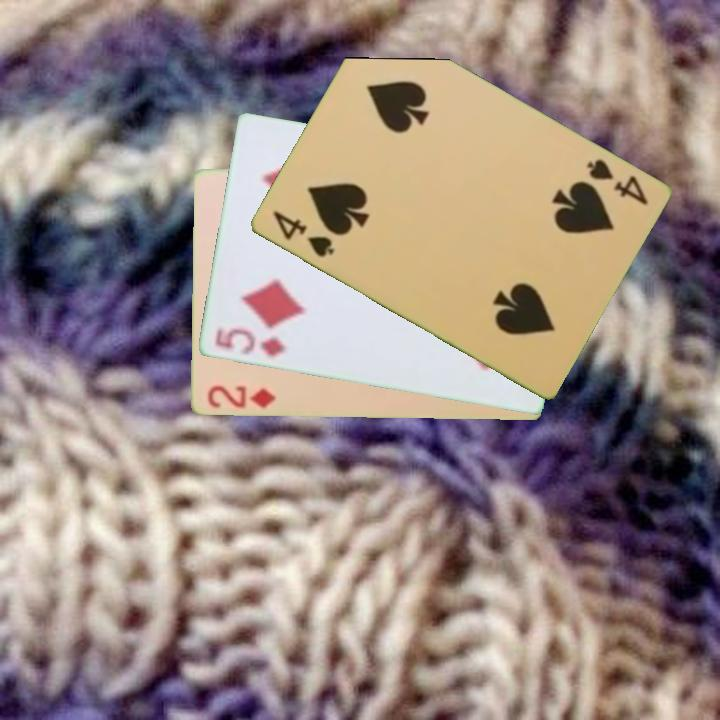2d: (203, 382, 279, 412)
4s: (582, 155, 651, 209), (269, 207, 337, 261)
5d: (211, 323, 288, 360)
